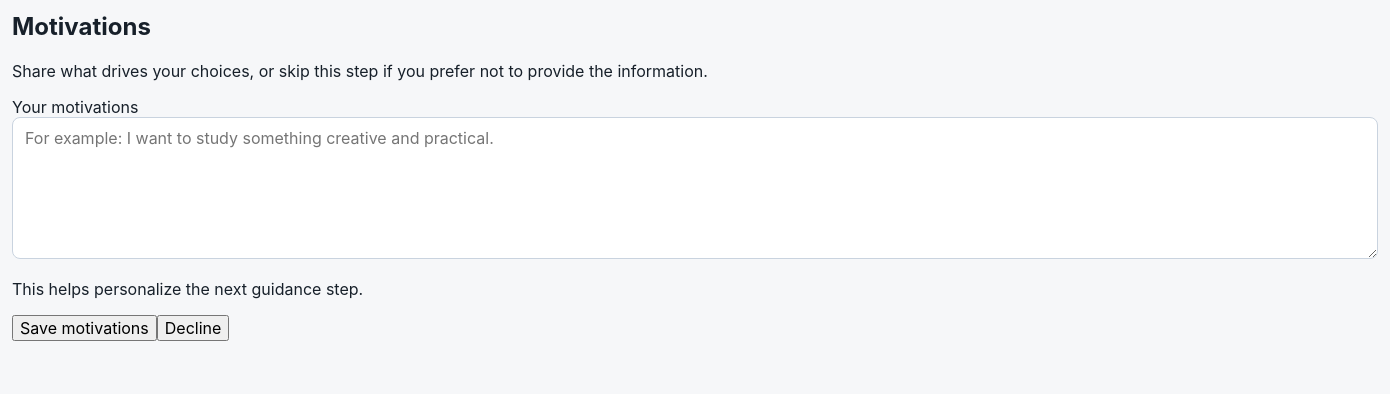
Scenario: shows validation error when motivations are empty
What coordinates should you click on to do the following:
click the button "Save motivations"
I would click on:
 (84, 328)
Its box is [12, 315, 157, 341].
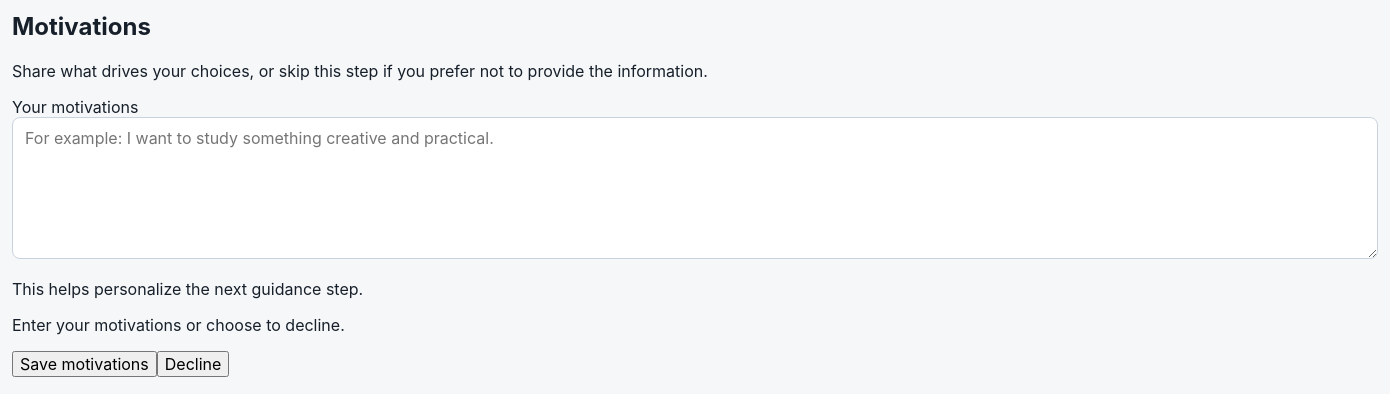
expect the text "Enter your motivations or choose to decline." is shown: met, box [12, 315, 345, 335]
